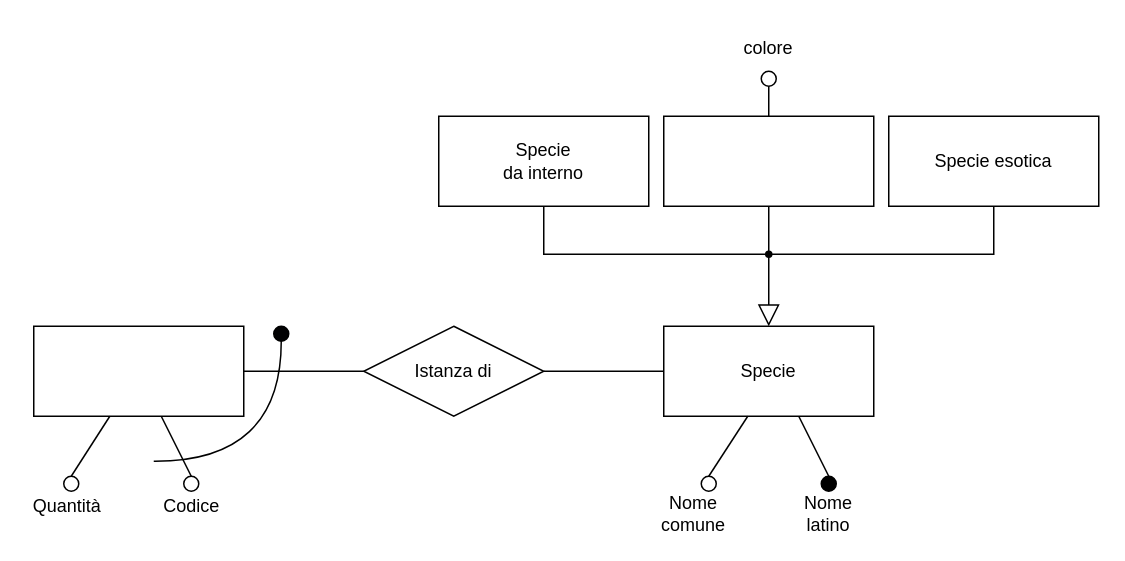
Image size: 1125x561. Some labels were removed from this diagram. Here are the shapes that lost their labels. From the top down, the box of each, then its label:
(662, 115, 874, 206): Specie fiorita
(32, 325, 244, 416): Pianta
